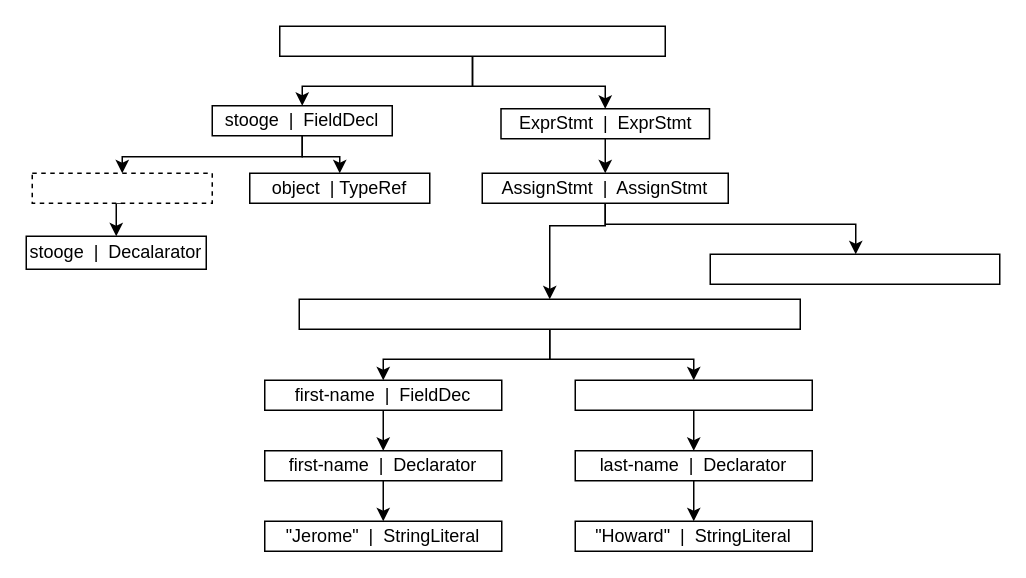
This 1026x578 diagram has some shape labels left out. Each missing label, with the centre of its shape:
CxAssociativeArray_94bac909 | AssociativeArrayExpr: (x=549, y=313)
CxJSNS_0f051c8a | NamespaceDecl: (x=471, y=40)
Decalarators: (x=121, y=187)
last-name | FieldDec: (x=693, y=394)
stooge | UnknownReference: (x=854, y=268)
